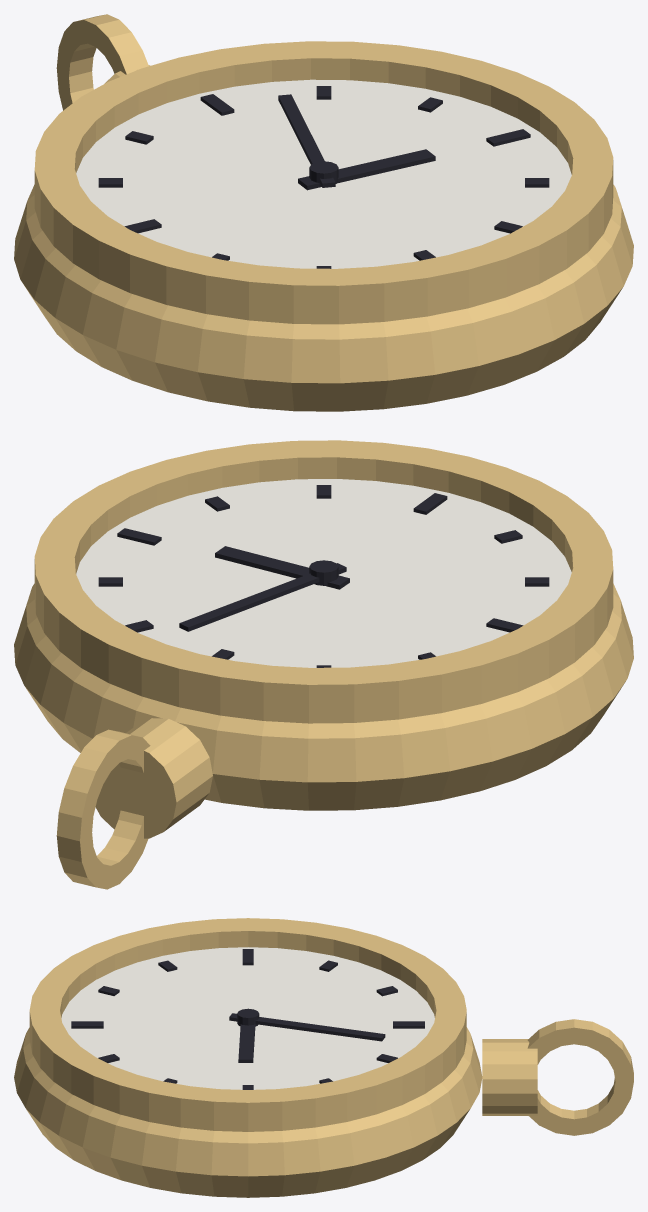
Rendered from Prop_PocketWatch.fbx.
3 renders of one model, top to bottom at view 1: azimuth 30°, elevation 25°; view 2: azimuth 150°, elevation 25°; view 3: azimuth 270°, elevation 25°, orthographic. The views are drawn at different scales.
Visible parts, largest first — view 1: PocketWatch_Case, PocketWatch_Dial, PocketWatch_Hands; view 2: PocketWatch_Case, PocketWatch_Dial, PocketWatch_Hands; view 3: PocketWatch_Case, PocketWatch_Dial, PocketWatch_Hands.
Part boxes in pixels (bbox=[...]): PocketWatch_Case: bbox=[14, 14, 633, 411]; PocketWatch_Dial: bbox=[76, 79, 571, 268]; PocketWatch_Hands: bbox=[98, 86, 549, 268]; PocketWatch_Case: bbox=[14, 440, 633, 889]; PocketWatch_Dial: bbox=[76, 479, 571, 667]; PocketWatch_Hands: bbox=[98, 485, 549, 667]; PocketWatch_Case: bbox=[14, 918, 633, 1197]; PocketWatch_Dial: bbox=[61, 947, 434, 1089]; PocketWatch_Hands: bbox=[71, 949, 424, 1089].
Bounding box in the file's own units: 0.051 × 0.0146 × 0.0675.
